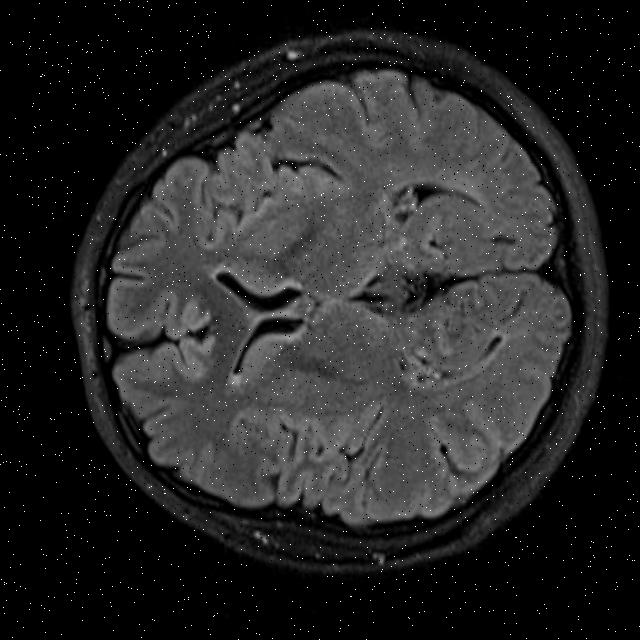NoTumor: (28, 0, 640, 631)
